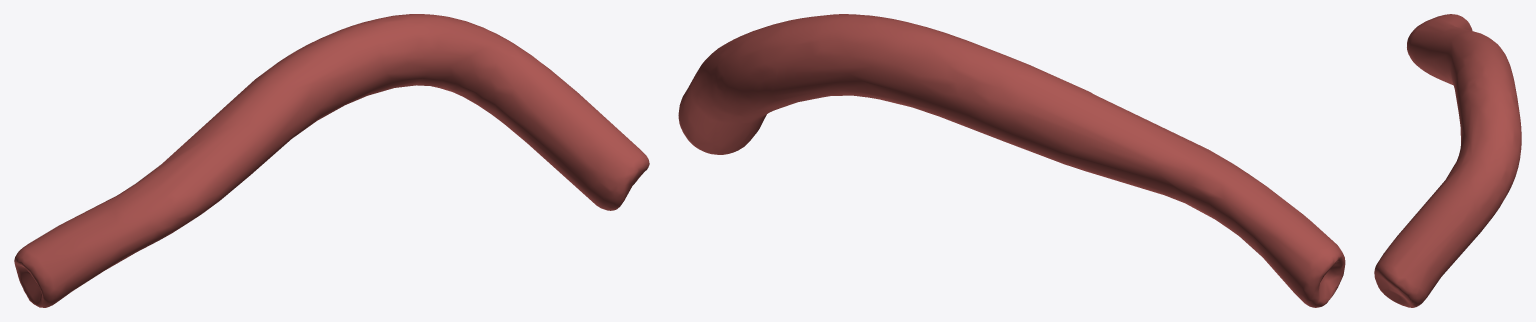
The model's file is FMA3953.glb.
The picture shows the model from 3 angles, left to right: view 1: azimuth 30°, elevation 25°; view 2: azimuth 150°, elevation 25°; view 3: azimuth 270°, elevation 25°; orthographic projection. The views are drawn at different scales.
Visible parts, largest first — view 1: FMA3953; view 2: FMA3953; view 3: FMA3953.
Boxes of the visible parts, x1,y1,x2,y2 form: FMA3953: (14,14,649,307); FMA3953: (678,14,1345,307); FMA3953: (1374,14,1521,307).
Bounding box in the file's own units: 0.0726 × 0.0226 × 0.0183.
